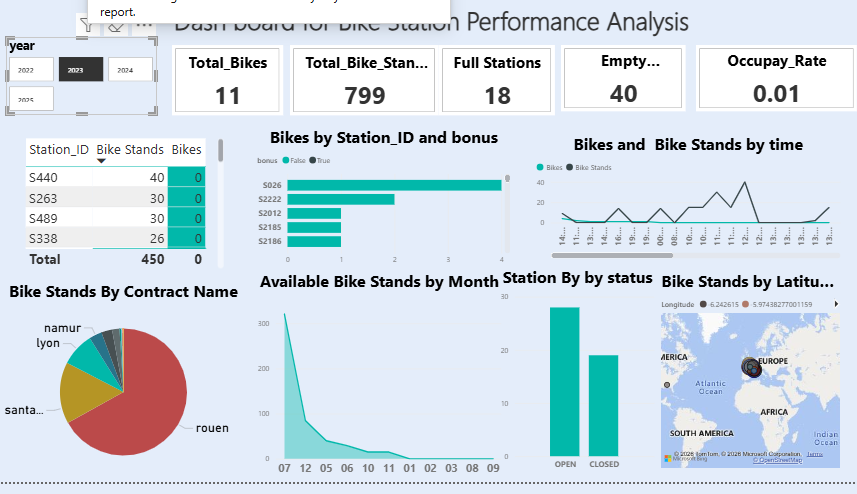

The page's visual inventory and layout, read from the dashboard file:
{"tool":"powerbi","page":{"name":"dashboard","canvas":[1280,720],"ordinal":10},"visuals":[{"type":"textbox","box":[10.1,0,1270.1,80.6],"z":0},{"type":"advancedSlicerVisual","fields":{"Values":["date_dim.year"]},"box":[10.4,52.2,225.4,131.3],"z":1000},{"type":"cardVisual","fields":{"Data":["fact.Total_Bikes"]},"box":[257.8,67.7,165.6,105.1],"z":2000},{"type":"cardVisual","fields":{"Data":["fact.Total_Stands"]},"box":[434.9,67.7,221.8,105.1],"z":3000},{"type":"cardVisual","fields":{"Data":["fact.Full Stations"]},"box":[656.6,67.7,172.8,105.1],"z":4000},{"type":"cardVisual","fields":{"Data":["fact.Empty Stations"]},"box":[839.5,67.7,185.8,99.4],"z":5000},{"type":"cardVisual","fields":{"Data":["fact.Occupay_Rate"]},"box":[1039.7,67.7,240.5,99.4],"z":6000},{"type":"pieChart","title":"Bike Stands By Contract Name","fields":{"Category":["contract_dim.Contract Name"],"Y":["Sum(fact.Bike Stands)"]},"box":[0,417.6,371.5,302.4],"z":7000},{"type":"areaChart","fields":{"Category":["date_dim.Month"],"Y":["Sum(fact.Available Bike Stands)"]},"box":[380.2,403.2,374.4,316.8],"z":8000},{"type":"columnChart","fields":{"Category":["fact.status"],"Y":["CountNonNull(Station_dim.Station_ID)"]},"box":[743,397.4,240.5,313.9],"z":9000},{"type":"map","fields":{"Category":["Station_dim.Latitude"],"Size":["Sum(fact.Bike Stands)"],"Series":["Station_dim.Longitude"]},"box":[983.5,403.2,276.5,301],"z":10000},{"type":"lineChart","fields":{"Y":["Sum(fact.Available Bikes)","Sum(fact.Available Bike Stands)"],"Category":["date_dim.time"]},"box":[796.3,198.7,463.7,191.5],"z":11000},{"type":"barChart","fields":{"Category":["Station_dim.Station_ID"],"Series":["Station_dim.bonus"],"Y":["Sum(fact.Available Bikes)"]},"box":[380.2,188.6,387.4,217.4],"z":12000},{"type":"tableEx","fields":{"Values":["Station_dim.Station_ID","Sum(fact.Available Bike Stands)","Sum(fact.Available Bikes)"]},"box":[34.3,201.5,306,204.5],"z":13000}]}

Visuals, with their boxes on the page's 1280x720 design canvas (x1, y1, x2, y2). These are canvas units, not pixel positions in the 857x494 screenshot, which may show the page scaled, cropped or inside an application window:
textbox: box=[10, 0, 1280, 81]
advancedSlicerVisual - date_dim.year: box=[10, 52, 236, 184]
cardVisual - fact.Total_Bikes: box=[258, 68, 423, 173]
cardVisual - fact.Total_Stands: box=[435, 68, 657, 173]
cardVisual - fact.Full Stations: box=[657, 68, 829, 173]
cardVisual - fact.Empty Stations: box=[840, 68, 1025, 167]
cardVisual - fact.Occupay_Rate: box=[1040, 68, 1280, 167]
"Bike Stands By Contract Name" pieChart: box=[0, 418, 372, 720]
areaChart - date_dim.Month x Sum(fact.Available Bike Stands): box=[380, 403, 755, 720]
columnChart - fact.status x CountNonNull(Station_dim.Station_ID): box=[743, 397, 984, 711]
map - Station_dim.Latitude x Sum(fact.Bike Stands): box=[984, 403, 1260, 704]
lineChart - Sum(fact.Available Bikes) x Sum(fact.Available Bike Stands): box=[796, 199, 1260, 390]
barChart - Station_dim.Station_ID x Station_dim.bonus: box=[380, 189, 768, 406]
tableEx - Station_dim.Station_ID x Sum(fact.Available Bike Stands): box=[34, 202, 340, 406]
